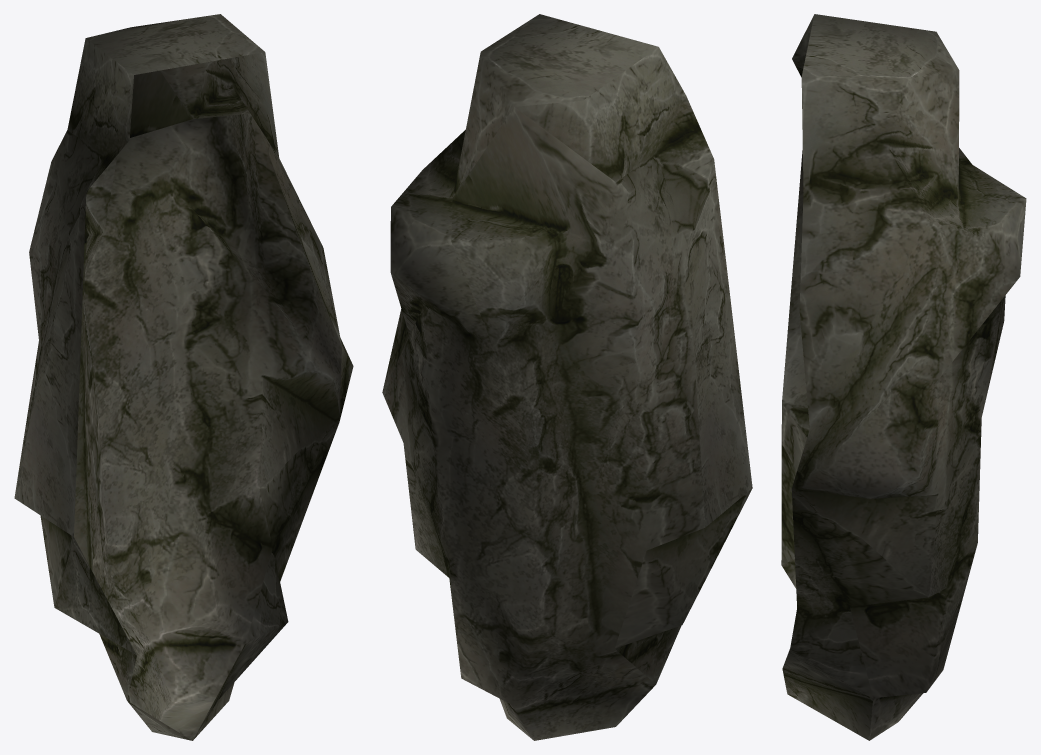
Rendered from AEP_Rock_04_Part_01.fbx.
3 views of the same model, side by side, from view 1: azimuth 30°, elevation 25°; view 2: azimuth 150°, elevation 25°; view 3: azimuth 270°, elevation 25° (orthographic). The views are drawn at different scales.
Parts seen in each view (by area): view 1: AEP_Rock_04_Part_01; view 2: AEP_Rock_04_Part_01; view 3: AEP_Rock_04_Part_01.
Part boxes in pixels (x1,y1,x2,y2): AEP_Rock_04_Part_01: (14,14,353,740); AEP_Rock_04_Part_01: (382,14,752,740); AEP_Rock_04_Part_01: (781,14,1026,740).
Size of the model in its own units: 2.92 by 6.11 by 2.03.
